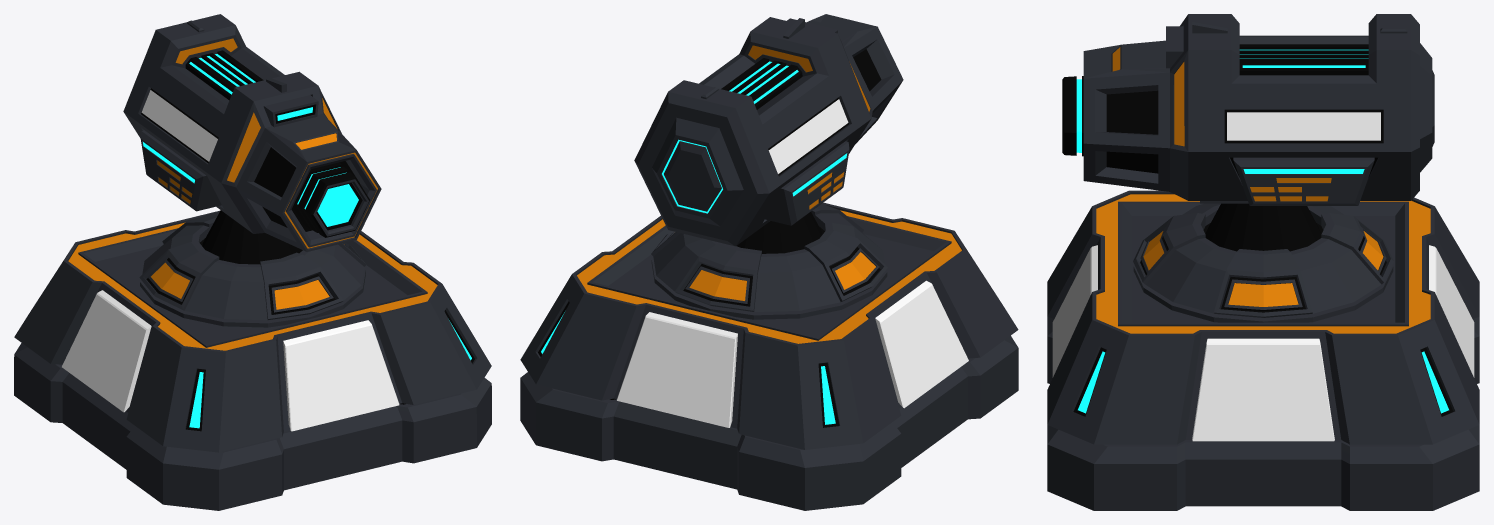
The model's file is SM_Turret_SiegeCannon.fbx.
3 renders of one model, left to right at view 1: azimuth 30°, elevation 25°; view 2: azimuth 150°, elevation 25°; view 3: azimuth 270°, elevation 25°, orthographic. The views are drawn at different scales.
Visible parts, largest first — view 1: SM_Turret_SiegeCannon, SM_Turret_SiegeCannon_Gun_01, SM_Turret_SiegeCannon_Rotator, SM_Turret_SiegeCannon_Gun_02; view 2: SM_Turret_SiegeCannon, SM_Turret_SiegeCannon_Gun_01, SM_Turret_SiegeCannon_Rotator; view 3: SM_Turret_SiegeCannon, SM_Turret_SiegeCannon_Gun_01, SM_Turret_SiegeCannon_Rotator, SM_Turret_SiegeCannon_Gun_02.
Part boxes in pixels (x1,y1,x2,y2): SM_Turret_SiegeCannon: [14, 210, 491, 510]; SM_Turret_SiegeCannon_Gun_01: [123, 14, 381, 251]; SM_Turret_SiegeCannon_Rotator: [139, 210, 366, 327]; SM_Turret_SiegeCannon_Gun_02: [293, 162, 369, 237]; SM_Turret_SiegeCannon: [520, 202, 1018, 510]; SM_Turret_SiegeCannon_Gun_01: [634, 14, 903, 246]; SM_Turret_SiegeCannon_Rotator: [651, 204, 887, 319]; SM_Turret_SiegeCannon: [1047, 190, 1479, 510]; SM_Turret_SiegeCannon_Gun_01: [1083, 14, 1434, 205]; SM_Turret_SiegeCannon_Rotator: [1133, 203, 1393, 322]; SM_Turret_SiegeCannon_Gun_02: [1062, 76, 1083, 156].
Bounding box in the file's own units: 1 × 1.01 × 1.
